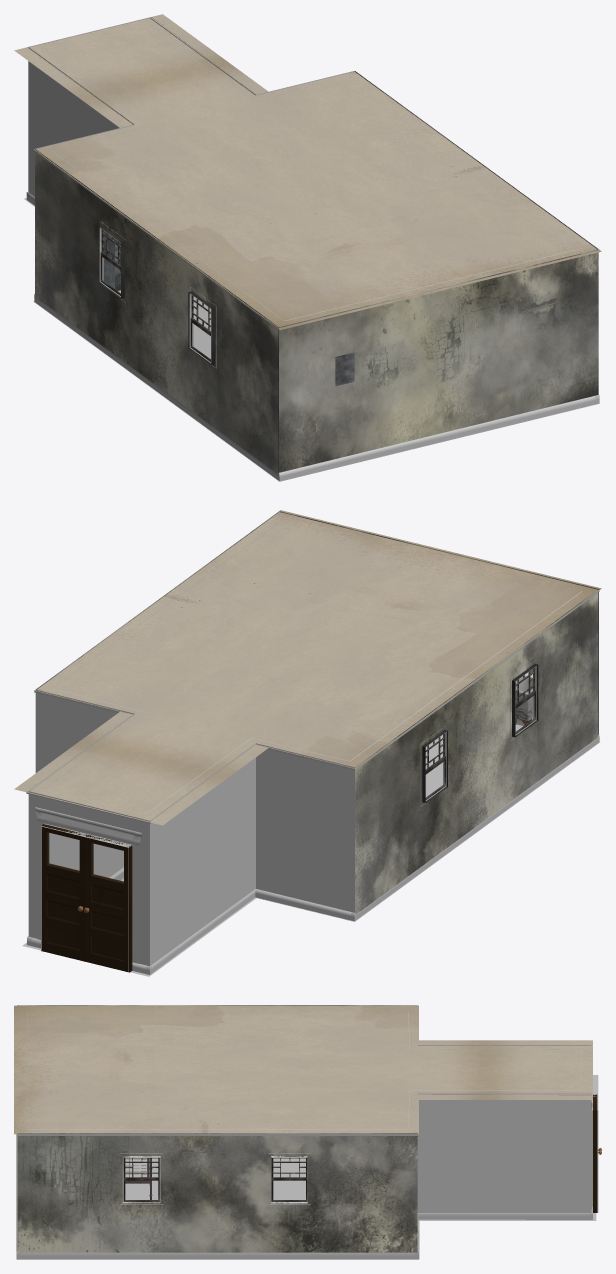
Rendered from FYP_infirmary_trish_01.fbx.
The picture shows the model from 3 angles, top to bottom: view 1: azimuth 30°, elevation 25°; view 2: azimuth 150°, elevation 25°; view 3: azimuth 270°, elevation 25°; orthographic projection. The views are drawn at different scales.
Parts seen in each view (by area): view 1: ceiling, wall03, wall02, wall01, moulding_floor, moulding_ceiling, floor; view 2: ceiling, wall01, wall02, moulding_floor, polySurface121, polySurface120, moulding_ceiling, floor, pasted__polySurface112, pasted__polySurface113, sink; view 3: ceiling, wall04, wall01, moulding_floor, floor, moulding_ceiling, window1 (×2), pCube37 (×2), pCube38 (×2), polySurface120, wall02.
Boxes of the visible parts, x1=… form: ceiling: x1=14, y1=14, x2=601, y2=329; wall03: x1=279, y1=249, x2=598, y2=472; wall02: x1=35, y1=149, x2=278, y2=473; wall01: x1=28, y1=17, x2=354, y2=196; moulding_floor: x1=26, y1=192, x2=599, y2=481; moulding_ceiling: x1=28, y1=17, x2=599, y2=330; floor: x1=24, y1=198, x2=594, y2=481; ceiling: x1=14, y1=510, x2=601, y2=825; wall01: x1=28, y1=689, x2=354, y2=972; wall02: x1=355, y1=589, x2=598, y2=914; moulding_floor: x1=27, y1=718, x2=599, y2=974; polySurface121: x1=85, y1=835, x2=132, y2=972; polySurface120: x1=41, y1=824, x2=86, y2=961; moulding_ceiling: x1=26, y1=511, x2=599, y2=823; floor: x1=22, y1=724, x2=600, y2=976; pasted__polySurface112: x1=93, y1=844, x2=123, y2=881; pasted__polySurface113: x1=49, y1=833, x2=78, y2=870; sink: x1=515, y1=670, x2=532, y2=724; ceiling: x1=14, y1=1005, x2=592, y2=1134; wall04: x1=17, y1=1133, x2=417, y2=1252; wall01: x1=417, y1=1045, x2=598, y2=1212; moulding_floor: x1=16, y1=1100, x2=592, y2=1259; floor: x1=16, y1=1134, x2=596, y2=1259; moulding_ceiling: x1=17, y1=1005, x2=591, y2=1135; window1 (×2): x1=124, y1=1157, x2=307, y2=1201; pCube37 (×2): x1=126, y1=1181, x2=305, y2=1199; pCube38 (×2): x1=126, y1=1159, x2=305, y2=1176; polySurface120: x1=593, y1=1094, x2=597, y2=1212; wall02: x1=17, y1=1005, x2=417, y2=1005.
Bounding box in the file's own units: 18.41 × 8.38 × 34.99.
